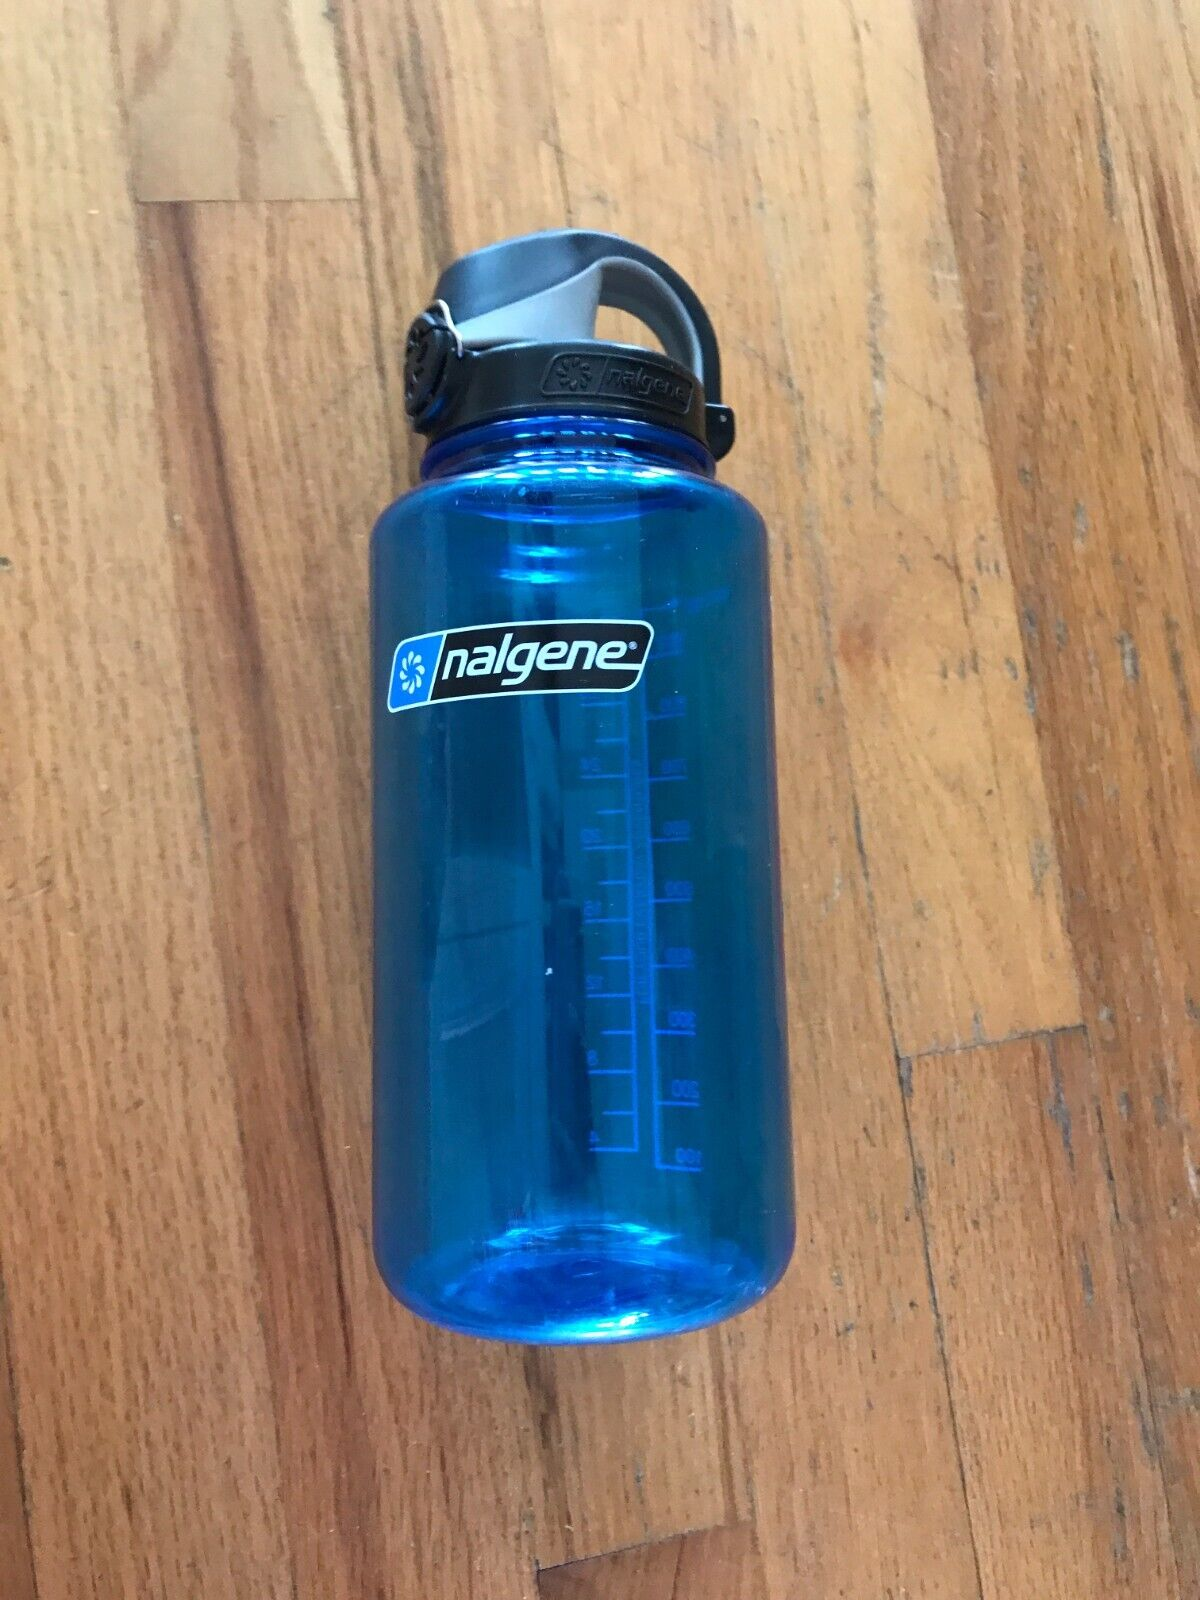bottle: (363, 231, 802, 1354)
